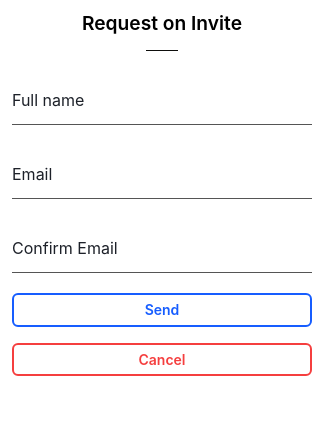
it: full name less than 3 char should display error message
Type "aa" into the field labelled "Full name" at (162, 108), box [12, 91, 312, 125]
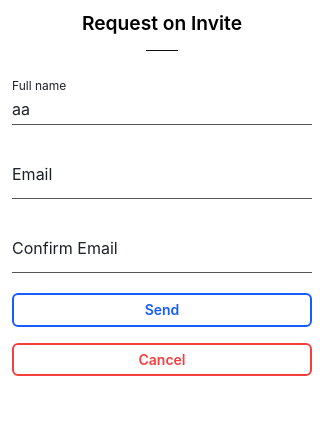
Type "google@gmail.com" into the field labelled "Email" at (162, 182), box [12, 165, 312, 199]
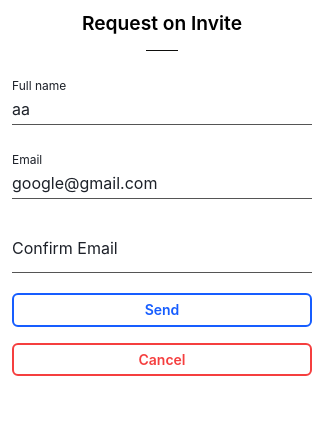
Type "google@gmail.com" into the field labelled "Confirm Email" at (162, 256), box [12, 239, 312, 273]
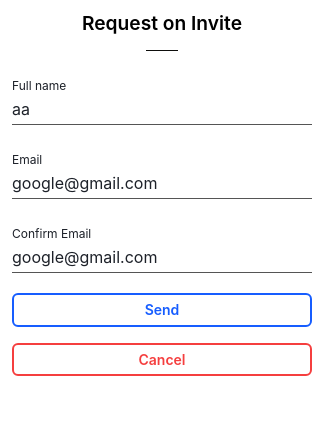
Click the button "Send" at (162, 310), box [12, 293, 312, 327]
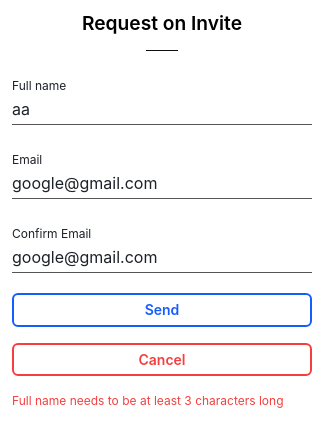
Expected: the text with test id "errorMsg" reads "Full name needs to be at least 3 characters long", [12, 393, 284, 408]
